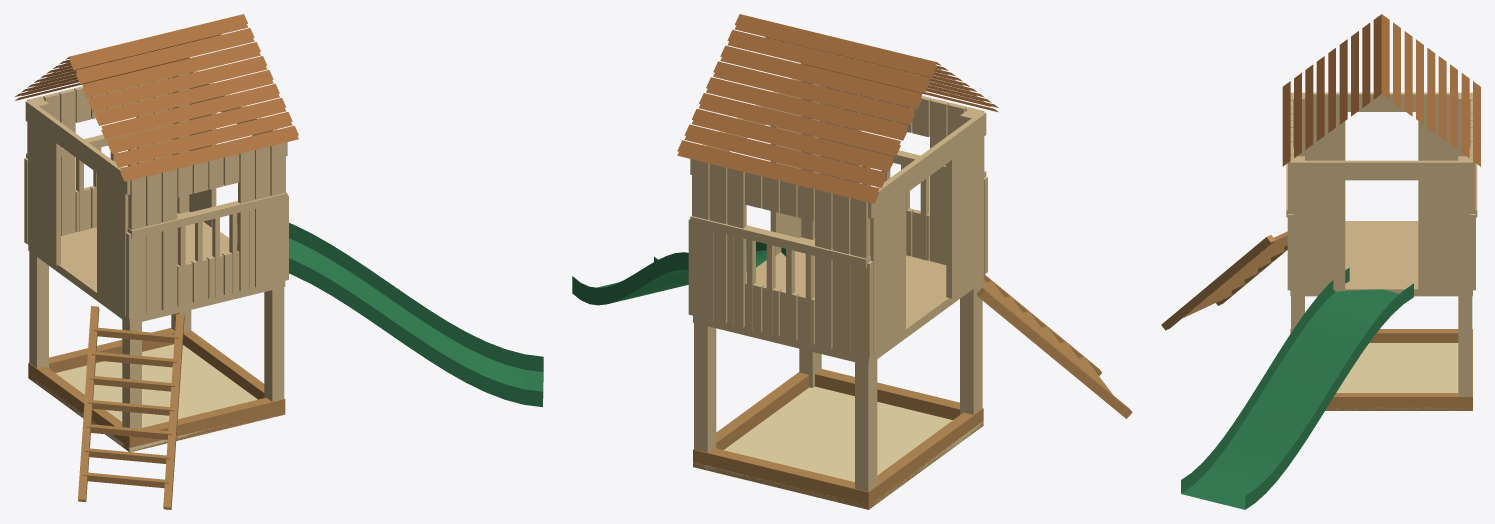
The picture shows the model from 3 angles, left to right: view 1: azimuth 30°, elevation 25°; view 2: azimuth 150°, elevation 25°; view 3: azimuth 270°, elevation 25°; orthographic projection. The views are drawn at different scales.
Visible parts, largest first — view 1: SW-Y307; view 2: SW-Y307; view 3: SW-Y307.
Boxes of the visible parts, x1=… form: SW-Y307: x1=15, y1=14, x2=543, y2=509; SW-Y307: x1=572, y1=14, x2=1132, y2=509; SW-Y307: x1=1161, y1=14, x2=1480, y2=509.
Size of the model in its own units: 3.9 by 2.8 by 2.5.
